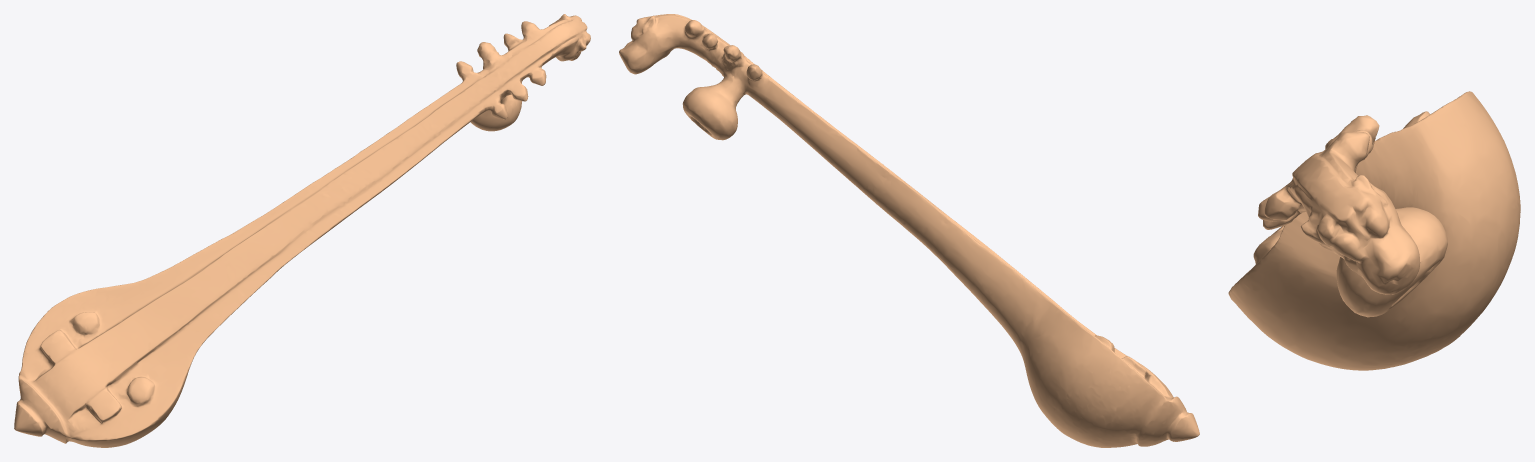
File: Aayudhangal_Veenai_02.glb
3 views of the same model, side by side, from view 1: azimuth 30°, elevation 25°; view 2: azimuth 150°, elevation 25°; view 3: azimuth 270°, elevation 25° (orthographic). The views are drawn at different scales.
Visible parts, largest first — view 1: Aayudhangal_Veenai_02; view 2: Aayudhangal_Veenai_02; view 3: Aayudhangal_Veenai_02.
Boxes of the visible parts, bbox=[...] form: Aayudhangal_Veenai_02: bbox=[14, 14, 590, 447]; Aayudhangal_Veenai_02: bbox=[619, 14, 1199, 447]; Aayudhangal_Veenai_02: bbox=[1228, 91, 1520, 370].
Size of the model in its own units: 0.5219 by 0.2752 by 0.1153.
